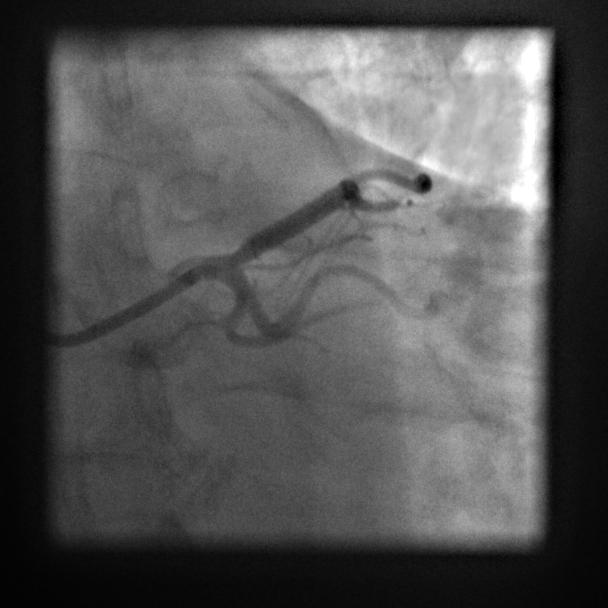Stenosis: (216, 241, 256, 267)
